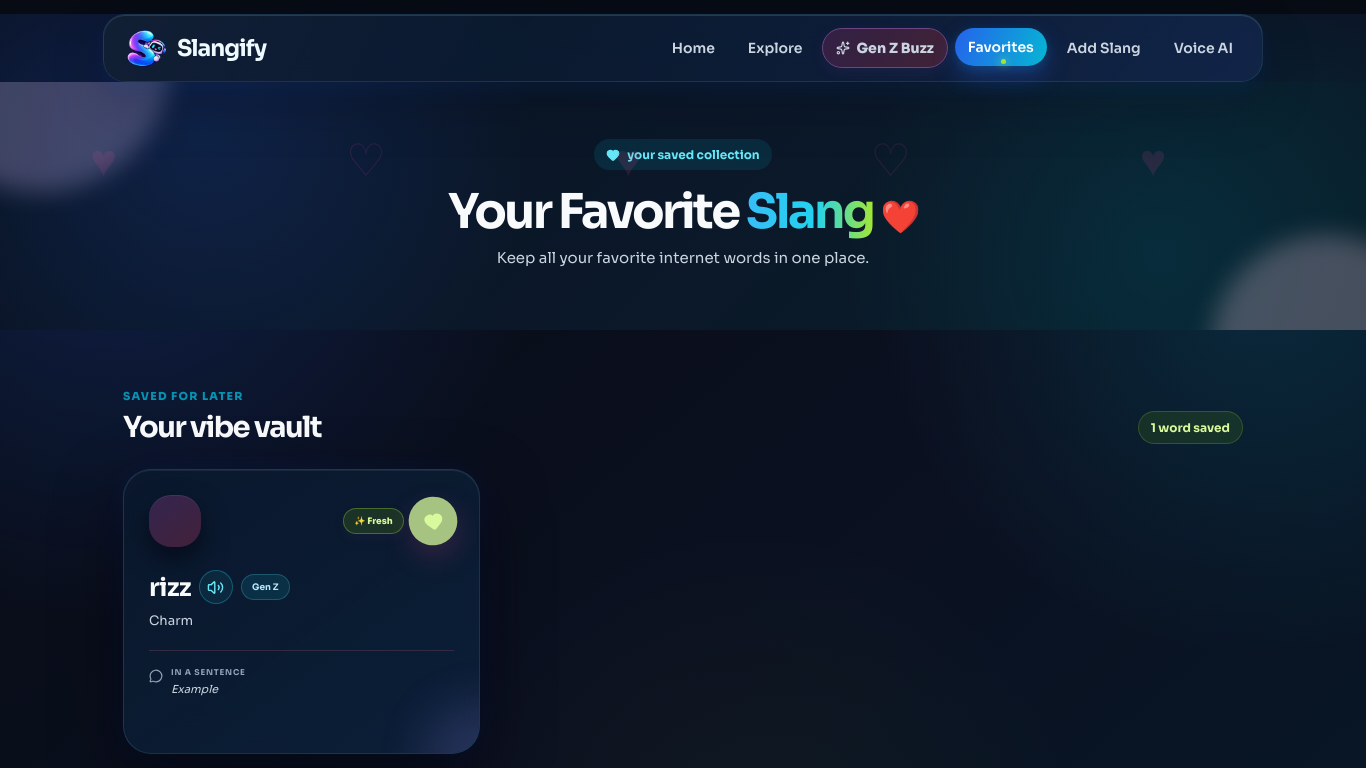
a failed removal restores the card and keeps the collection usable
Click the button named "Remove rizz from favorites": coordinates (433, 521) top-left (405, 493), bottom-right (460, 549)
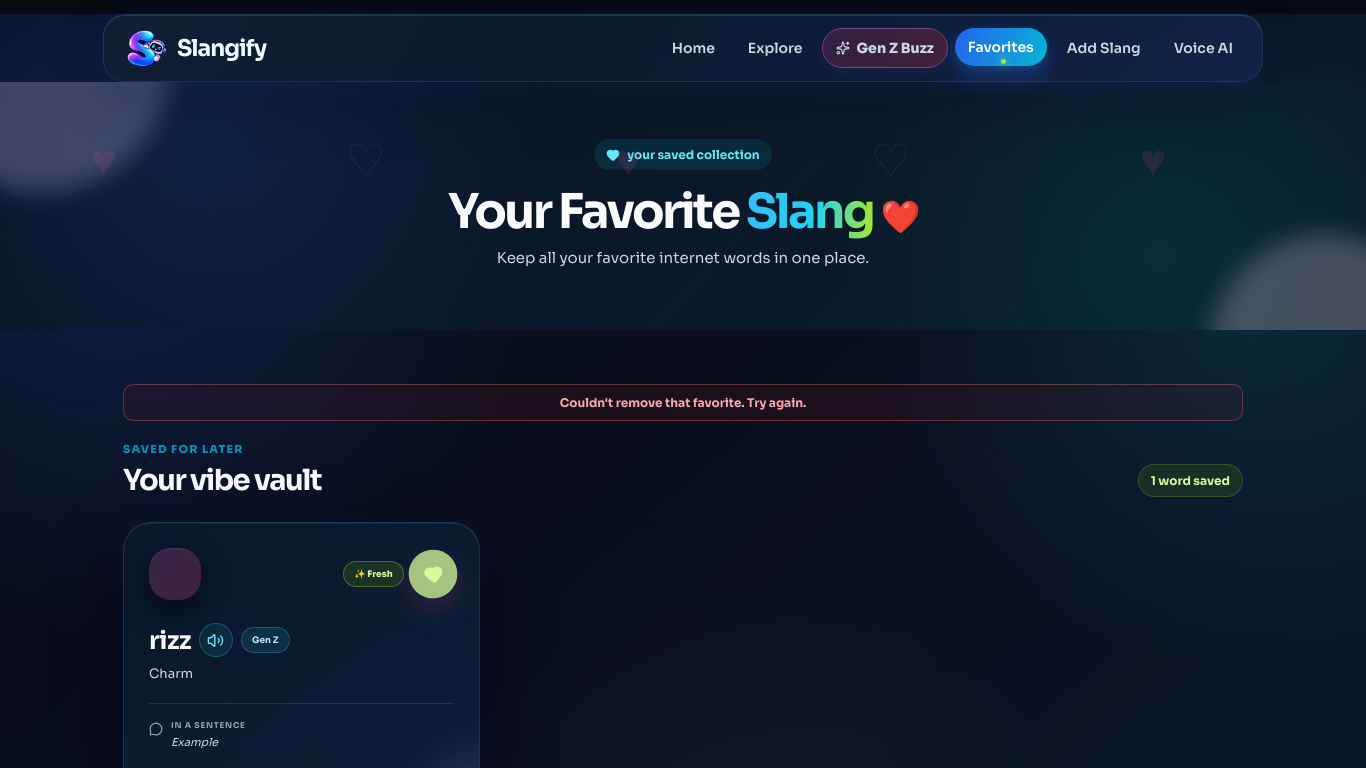
expect the heading "rizz" is shown: met, box top-left (149, 625), bottom-right (191, 656)
expect the message shows "Couldn't remove that favorite": met, box top-left (560, 395), bottom-right (806, 410)
